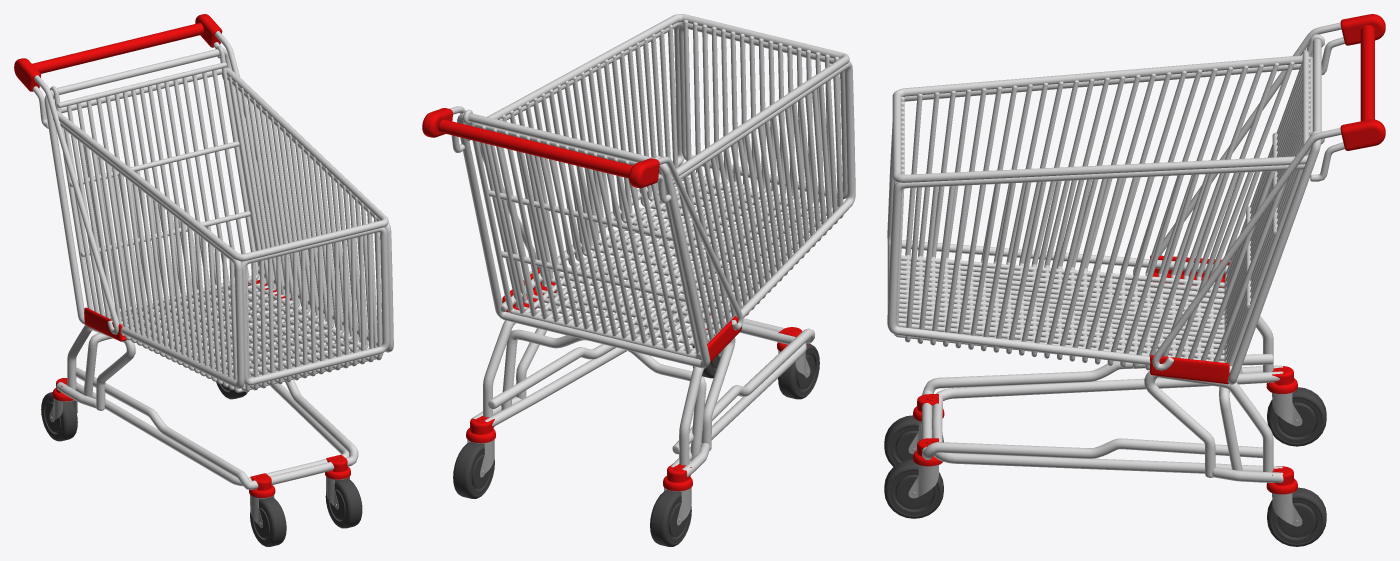
File: Shopping_cart.glb
3 views of the same model, side by side, from view 1: azimuth 30°, elevation 25°; view 2: azimuth 150°, elevation 25°; view 3: azimuth 270°, elevation 25° (orthographic). The views are drawn at different scales.
Visible parts, largest first — view 1: shopping-cart, wheel-001, wheel-004, wheel-003, wheel-support-004, wheel-support-001; view 2: shopping-cart, wheel-003, wheel-002, wheel-004, wheel-support-002, wheel-support-003; view 3: shopping-cart, wheel-001, wheel-002, wheel-003, wheel-004, wheel-support-003.
Part boxes in pixels (x1,y1,x2,y2): shopping-cart: [14, 14, 393, 489]; wheel-001: [325, 476, 362, 528]; wheel-004: [250, 495, 286, 546]; wheel-003: [41, 392, 77, 441]; wheel-support-004: [325, 454, 350, 479]; wheel-support-001: [249, 473, 275, 497]; shopping-cart: [422, 14, 855, 477]; wheel-003: [650, 487, 691, 546]; wheel-002: [453, 439, 494, 498]; wheel-004: [778, 343, 819, 399]; wheel-support-002: [466, 416, 495, 443]; wheel-support-003: [663, 463, 692, 491]; shopping-cart: [887, 14, 1385, 482]; wheel-001: [884, 459, 943, 518]; wheel-002: [1267, 487, 1326, 546]; wheel-003: [1267, 387, 1326, 446]; wheel-004: [884, 415, 943, 466]; wheel-support-003: [1266, 366, 1297, 393].
Bounding box in the file's own units: 0.5228 × 0.9141 × 0.9755.
